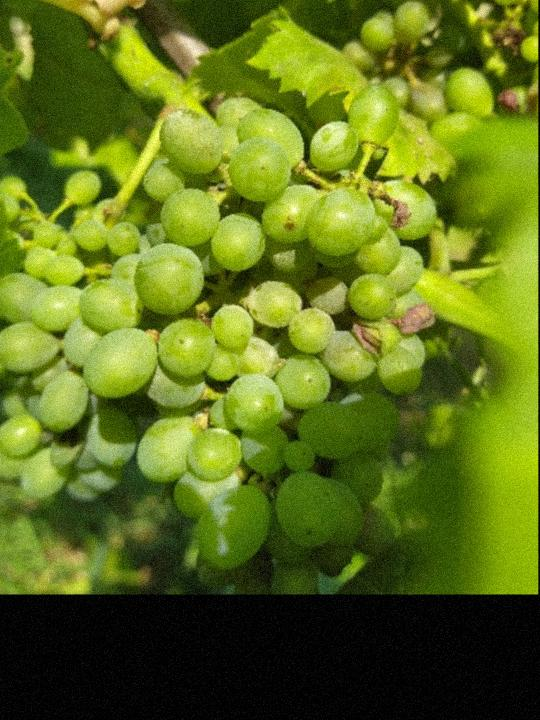grape: (0, 81, 442, 621)
